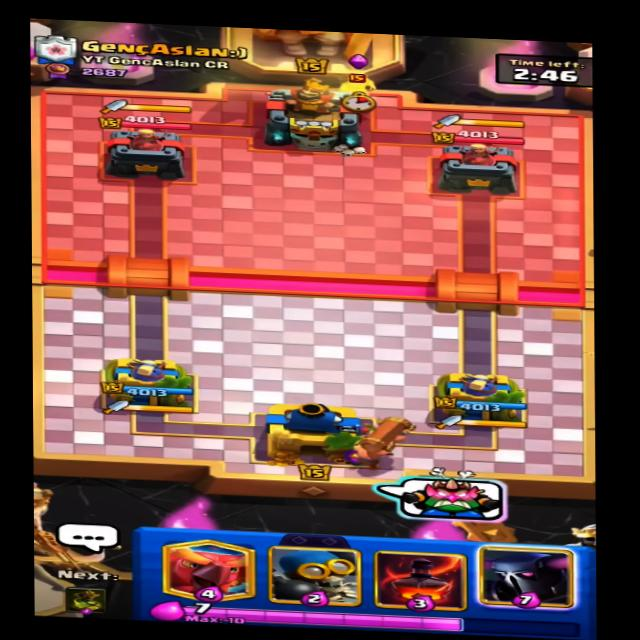Wizard: (334, 70, 386, 104)
